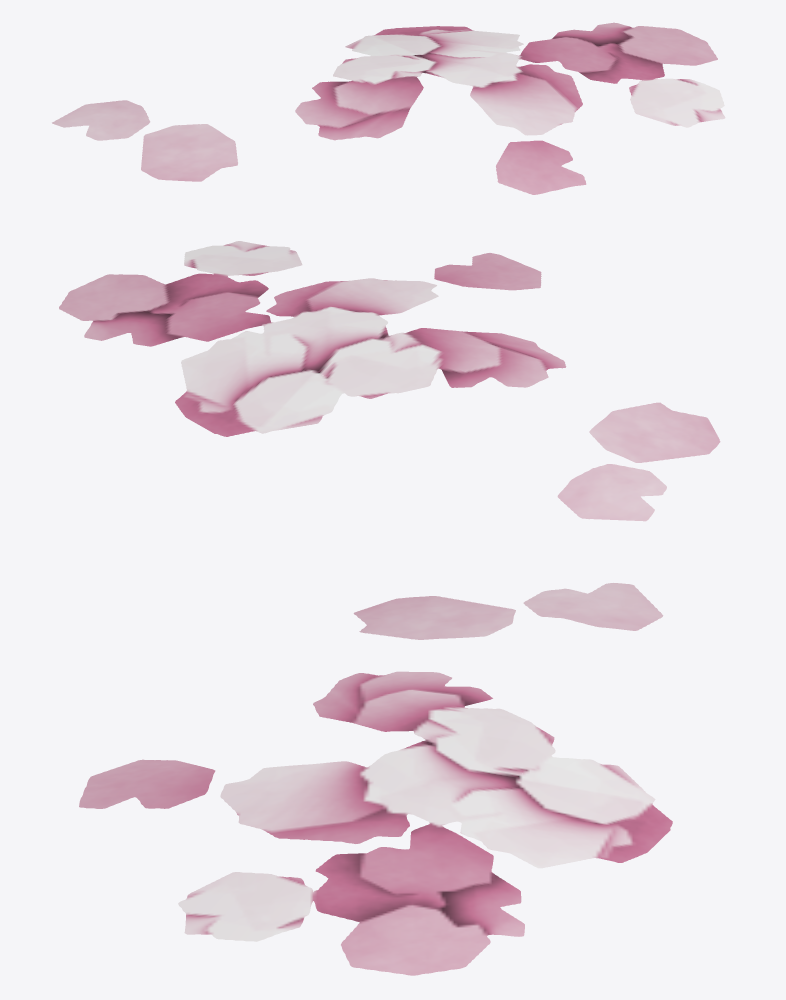
File: SM_Env_CherryBlossom_Small_07.fbx
The picture shows the model from 3 angles, top to bottom: view 1: azimuth 30°, elevation 25°; view 2: azimuth 150°, elevation 25°; view 3: azimuth 270°, elevation 25°; orthographic projection. The views are drawn at different scales.
Visible parts, largest first — view 1: SM_Env_CherryBlossom_Small_07; view 2: SM_Env_CherryBlossom_Small_07; view 3: SM_Env_CherryBlossom_Small_07.
Boxes of the visible parts, x1=… form: SM_Env_CherryBlossom_Small_07: x1=52, y1=22, x2=725, y2=194; SM_Env_CherryBlossom_Small_07: x1=59, y1=241, x2=720, y2=521; SM_Env_CherryBlossom_Small_07: x1=79, y1=583, x2=672, y2=975.
Size of the model in its own units: 76.03 by 4.34 by 57.77.
